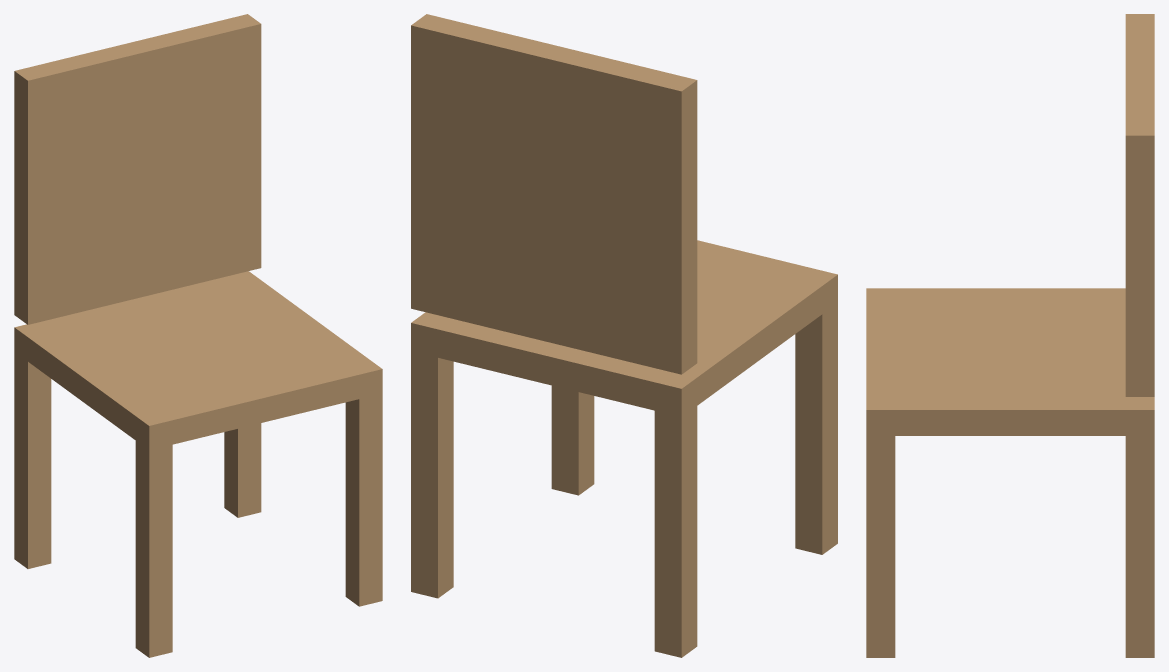
File: chair.glb
3 views of the same model, side by side, from view 1: azimuth 30°, elevation 25°; view 2: azimuth 150°, elevation 25°; view 3: azimuth 270°, elevation 25° (orthographic). The views are drawn at different scales.
Visible parts, largest first — view 1: backrest, seat, leg-fl, leg-fr, leg-bl, leg-br; view 2: backrest, seat, leg-bl, leg-br, leg-fl, leg-fr; view 3: seat, backrest, leg-fr, leg-br.
Boxes of the visible parts, x1,y1,x2,y2 form: backrest: (14,14,261,324); seat: (14,271,382,449); leg-fl: (135,429,172,657); leg-fr: (345,381,382,606); leg-bl: (14,352,51,568); leg-br: (224,423,261,517); backrest: (411,14,697,374); seat: (411,240,837,416); leg-bl: (654,392,697,657); leg-br: (411,337,453,598); leg-fl: (795,289,837,554); leg-fr: (551,385,594,495); seat: (866,288,1154,435); backrest: (1125,14,1154,396); leg-fr: (866,423,895,657); leg-br: (1125,423,1154,657).
Bounding box in the file's own units: 0.5 × 1 × 0.5.
